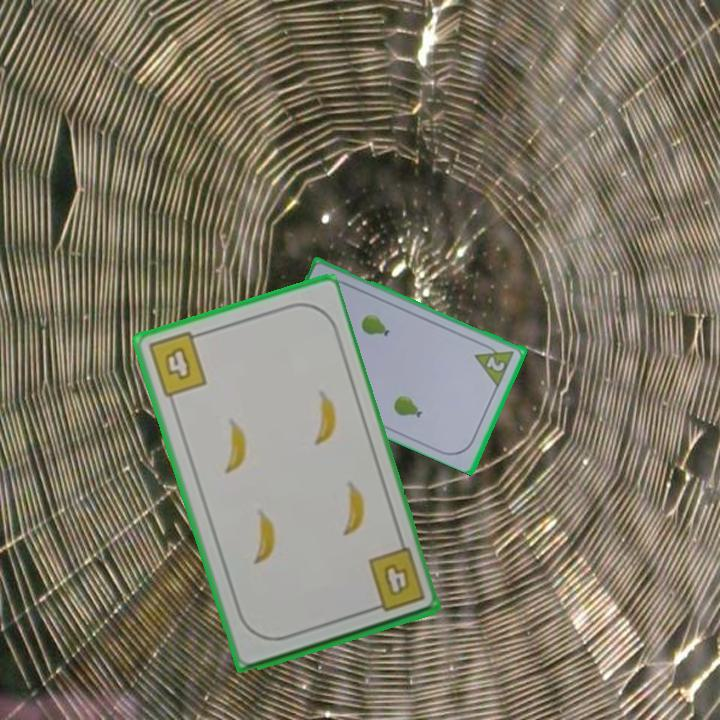2p: (483, 353, 508, 374)
4b: (143, 328, 210, 400), (364, 544, 428, 615)
